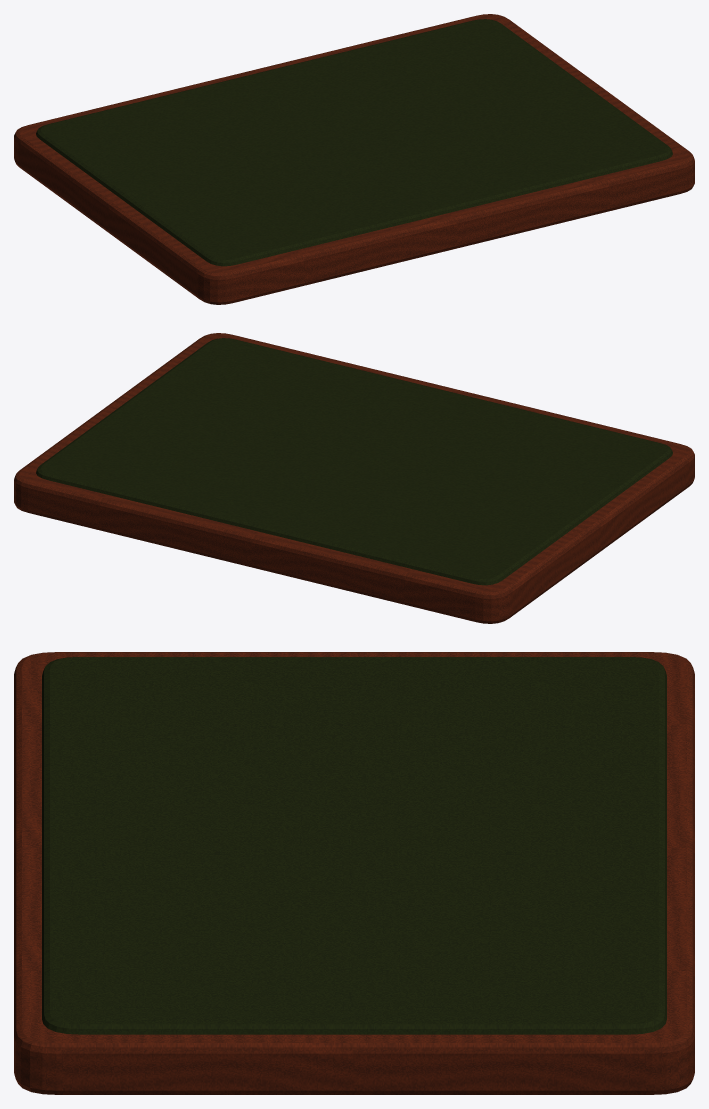
File: tray_felt.glb
3 renders of one model, top to bottom at view 1: azimuth 30°, elevation 25°; view 2: azimuth 150°, elevation 25°; view 3: azimuth 270°, elevation 25°, orthographic. The views are drawn at different scales.
Size of the model in its own units: 3.23 by 0.222 by 2.34.
Materials: 2 (2 with a texture image).
